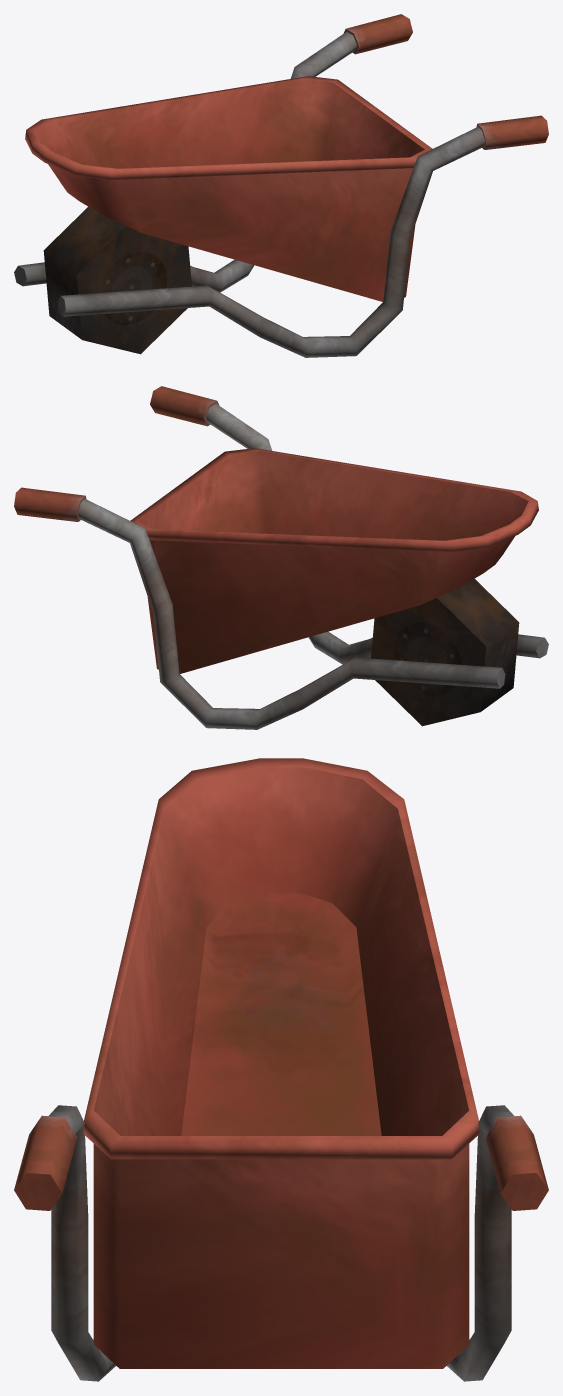
File: Kruiwagen.fbx
3 renders of one model, top to bottom at view 1: azimuth 30°, elevation 25°; view 2: azimuth 150°, elevation 25°; view 3: azimuth 270°, elevation 25°, orthographic. The views are drawn at different scales.
Visible parts, largest first — view 1: Kruiwagen; view 2: Kruiwagen; view 3: Kruiwagen.
Boxes of the visible parts, box(x1,y1,x2,y2) form: Kruiwagen: box(14, 14, 548, 357); Kruiwagen: box(14, 386, 548, 729); Kruiwagen: box(14, 758, 548, 1381).
Bounding box in the file's own units: 2579 × 1289 × 1560.
